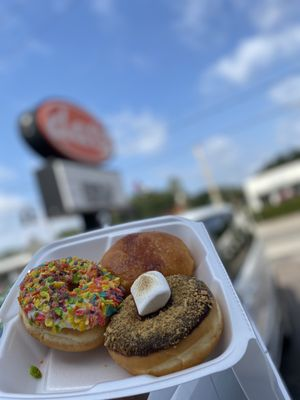salad: (104, 272, 224, 377), (17, 256, 127, 352), (100, 231, 195, 288)
